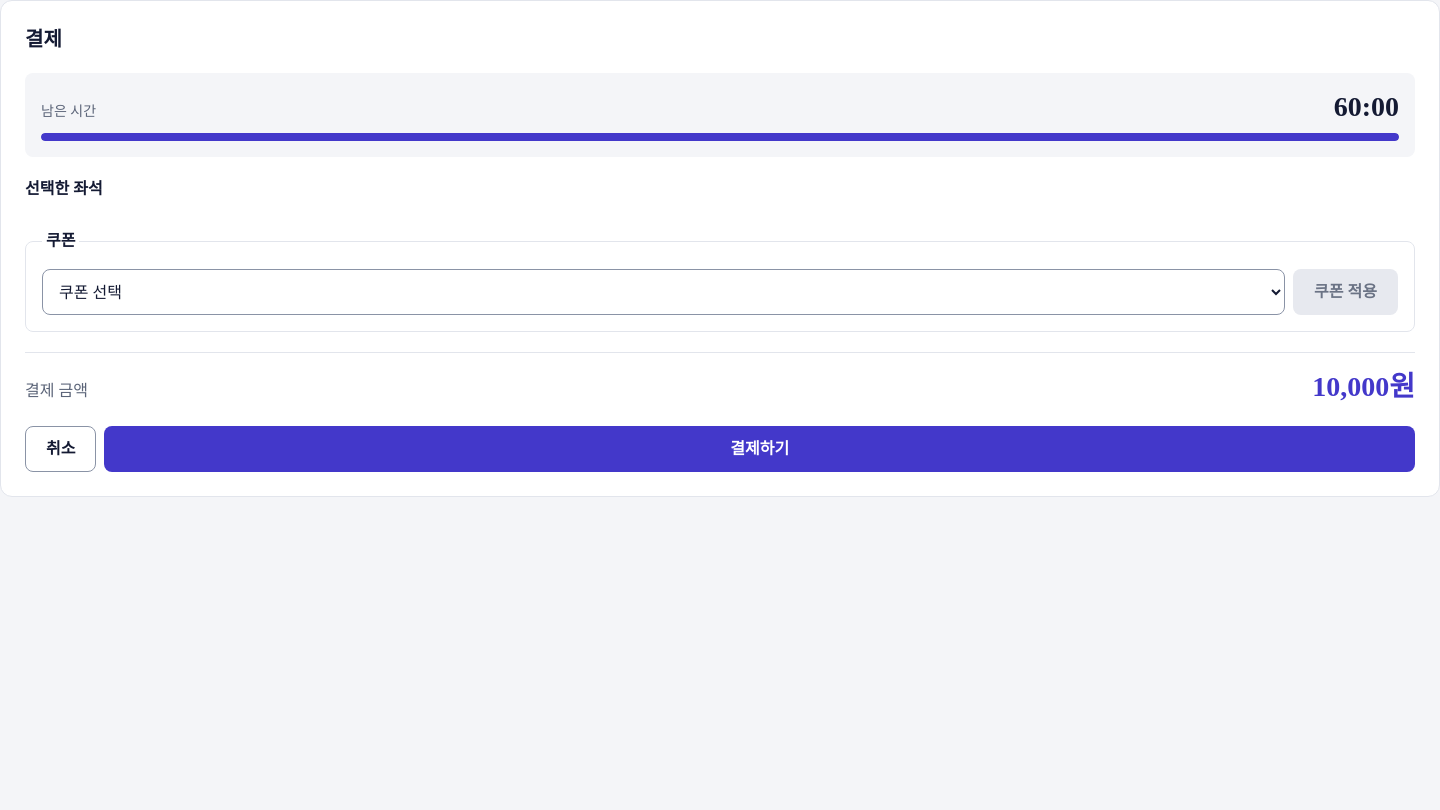
it: 결제 화면 쿠폰 › 적용 후 RESERVING 동안 결제를 막고 RESERVED가 되면 결제 금액을 보여 준다
The width and height of the screenshot is (1440, 810).
Later steps or results of the test are not shown.
Select "1000원 쿠폰" in the dropdown named "쿠폰 선택" at (664, 292), box [42,269,1285,315]
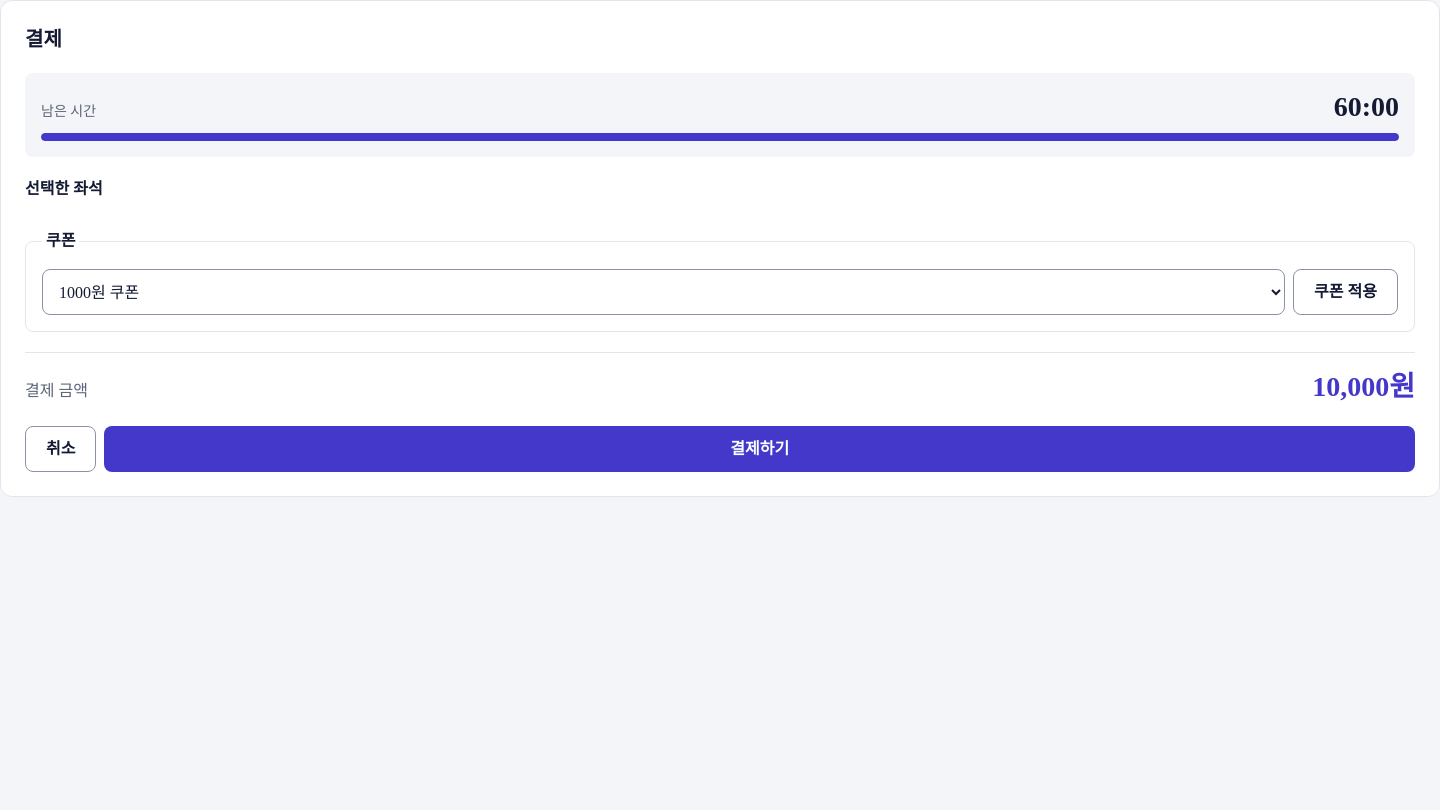
Click the button "쿠폰 적용" at (1346, 292), box [1293,269,1398,315]
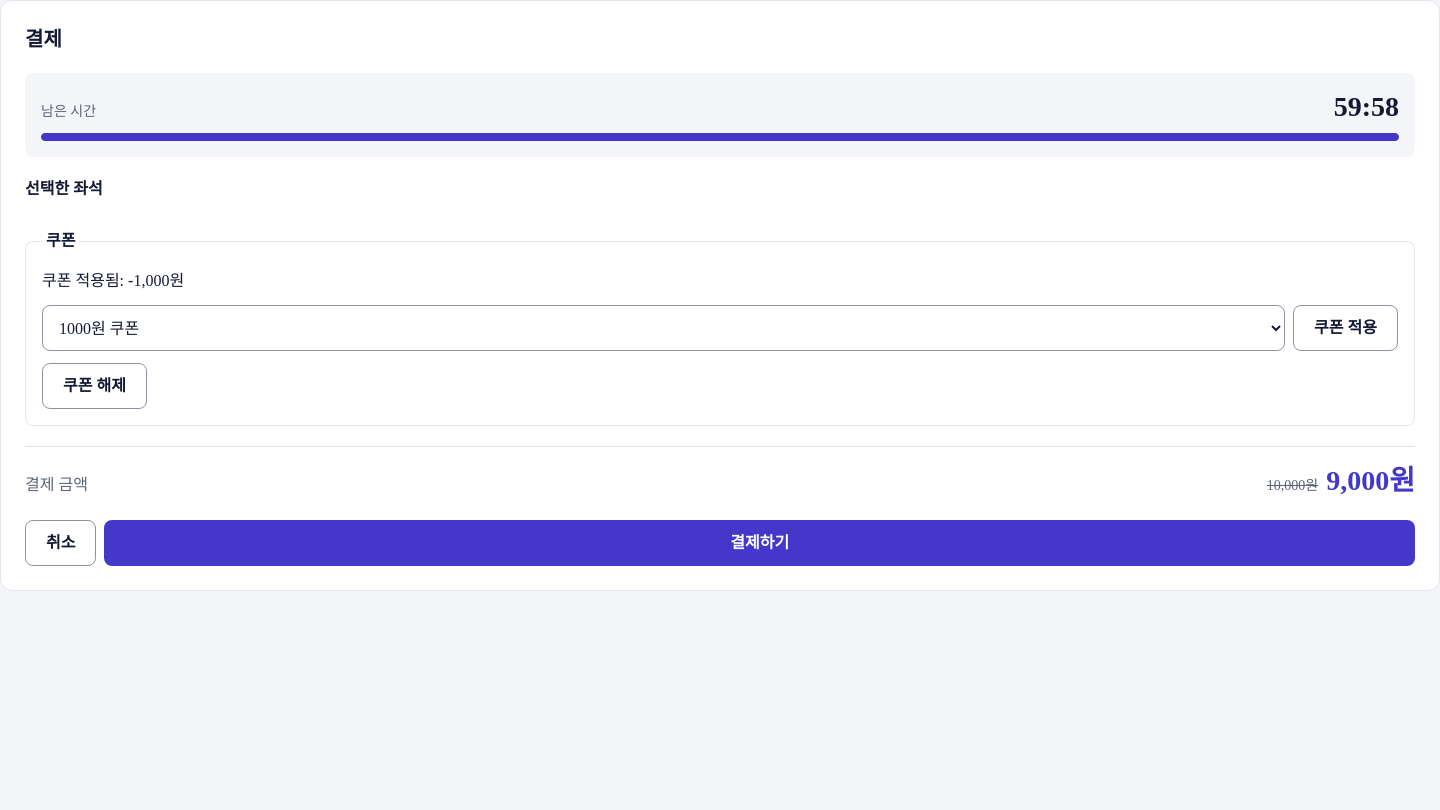
Expected: the button "결제하기" is enabled, [104,520,1415,566]
Now the text "쿠폰 적용됨: -1,000원" is shown, box [42,272,184,289]
Now the text with test id "payable-amount" reads "9,000원", box [1326,463,1415,500]
